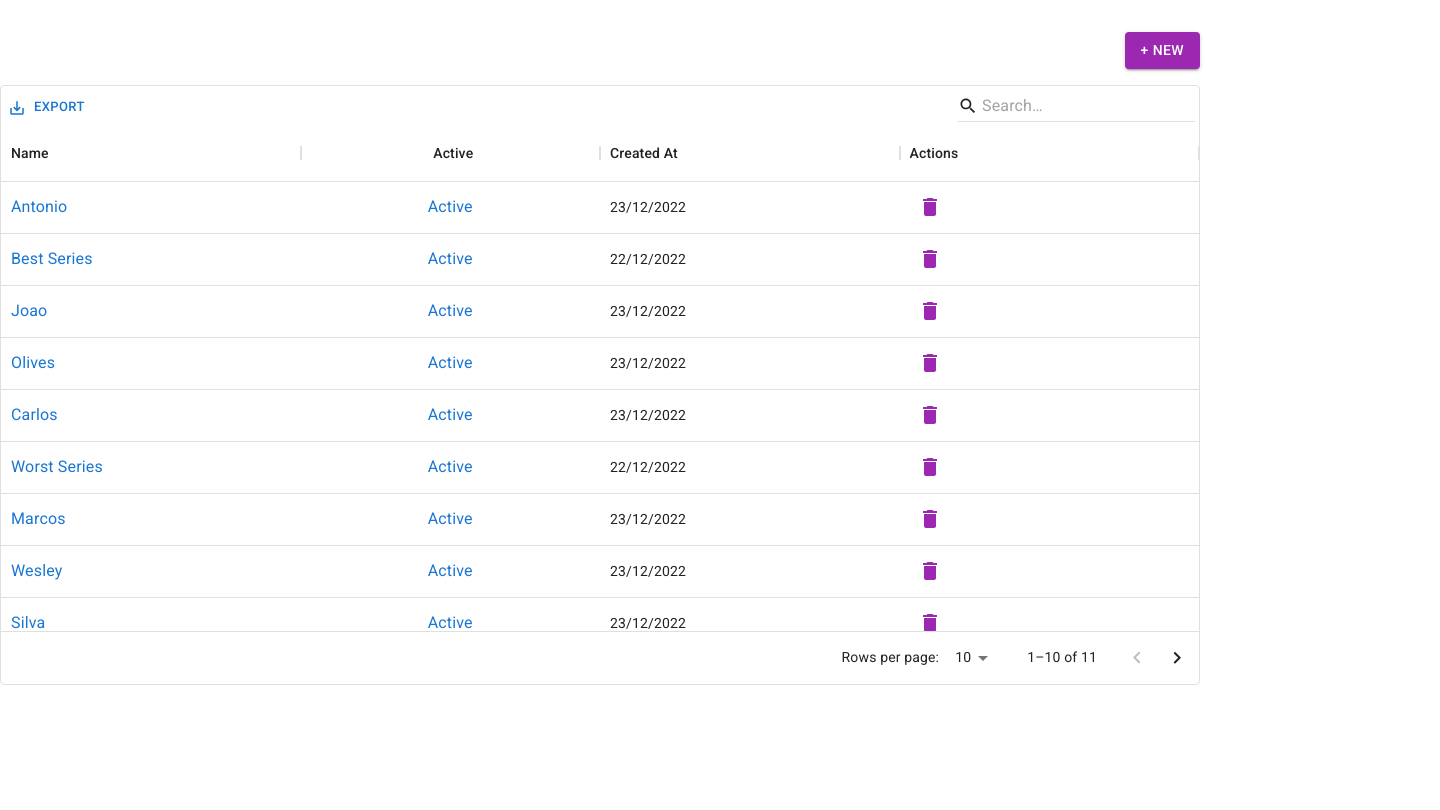
Scenario: List category › should handle delete category error
Expected: the text "Antonio" is shown, [11, 195, 67, 219]
Click the button with test id "delete-button" in the row of "Antonio".
click(930, 207)  # box [910, 187, 950, 227]
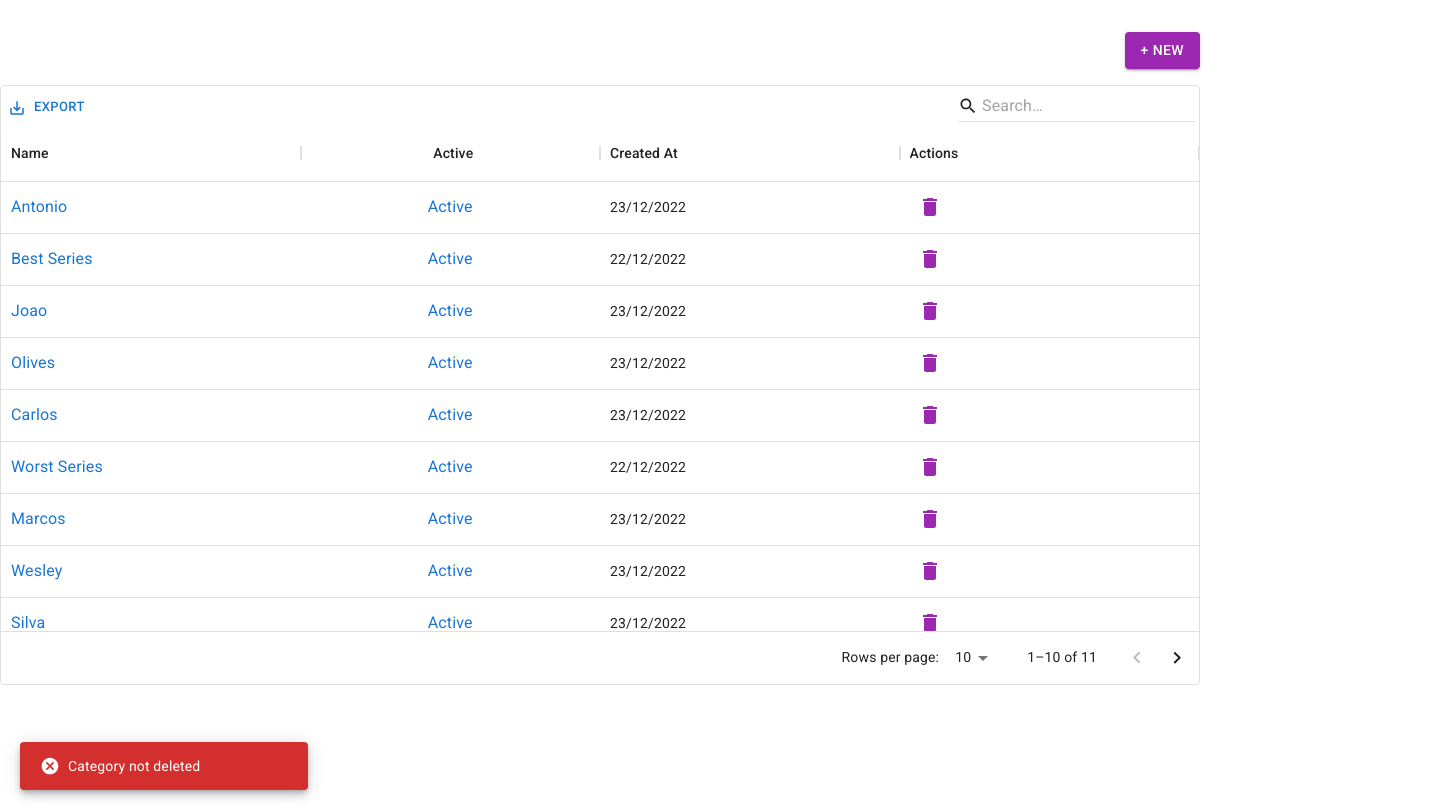
Expected: the text "Category not deleted" is shown, [40, 756, 200, 776]
